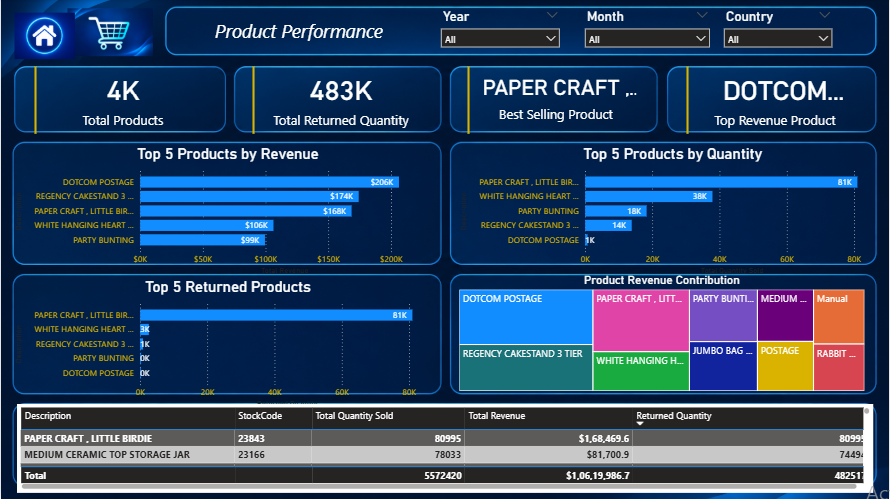

This screenshot's page, from the dashboard's own definition file:
{"tool":"powerbi","page":{"name":"Page 2","canvas":[1280,720],"ordinal":2},"visuals":[{"type":"textbox","box":[273.8,21.8,381.3,48.7],"z":0},{"type":"cardVisual","fields":{"Data":["Online_Retail_Cleaned.Total Products"]},"box":[43.7,92.4,265.4,107.5],"z":1000},{"type":"cardVisual","fields":{"Data":["Online_Retail_Cleaned.Total Returned Quantity"]},"box":[357.8,92.4,265.4,107.5],"z":2000},{"type":"cardVisual","fields":{"Data":["Online_Retail_Cleaned.Best Selling Product"]},"box":[666.9,92.4,265.4,107.5],"z":3000},{"type":"cardVisual","fields":{"Data":["Online_Retail_Cleaned.Top Revenue Product"]},"box":[982.7,92.4,265.4,107.5],"z":4000},{"type":"clusteredBarChart","title":"Top 5 Products by Revenue","fields":{"Category":["Online_Retail_Cleaned.Description"],"Y":["Online_Retail_Cleaned.Total Revenue"]},"box":[15.1,210,624.9,191.5],"z":5000},{"type":"clusteredBarChart","title":"Top 5 Products by Quantity","fields":{"Category":["Online_Retail_Cleaned.Description"],"Y":["Online_Retail_Cleaned.Total Quantity Sold"]},"box":[655.1,210,624.9,191.5],"z":6000},{"type":"clusteredBarChart","title":"Top 5 Returned Products","fields":{"Category":["Online_Retail_Cleaned.Description"],"Y":["Online_Retail_Cleaned.Returned Quantity"]},"box":[15.1,401.5,624.9,191.5],"z":7000},{"type":"treemap","title":"Product Revenue Contribution","fields":{"Values":["Online_Retail_Cleaned.Total Revenue"],"Details":["Online_Retail_Cleaned.Description"]},"box":[655.1,394.8,593,174.7],"z":8000},{"type":"tableEx","fields":{"Values":["Online_Retail_Cleaned.Description","Online_Retail_Cleaned.StockCode","Online_Retail_Cleaned.Total Quantity Sold","Online_Retail_Cleaned.Total Revenue","Online_Retail_Cleaned.Returned Quantity"]},"box":[23.5,582.9,1233,127.7],"z":9000},{"type":"slicer","fields":{"Values":["Online_Retail_Cleaned.Year"]},"box":[623.2,8.4,191.5,75.6],"z":10000},{"type":"slicer","fields":{"Values":["Online_Retail_Cleaned.Month"]},"box":[831.5,8.4,199.9,75.6],"z":11000},{"type":"slicer","fields":{"Values":["Online_Retail_Cleaned.Country"]},"box":[1031.4,8.4,176.4,75.6],"z":12000},{"type":"image","box":[90.7,5,132.7,87.3],"z":13001},{"type":"image","box":[15.1,8.4,97.4,89],"z":13002}]}

Visuals, with their boxes in screenshot pixels (x1, y1, x2, y2), scaled from the page's 1280x720 canvas onto the 890x499 screenshot:
textbox: x1=190 y1=15 x2=455 y2=49
cardVisual - Online_Retail_Cleaned.Total Products: x1=30 y1=64 x2=215 y2=139
cardVisual - Online_Retail_Cleaned.Total Returned Quantity: x1=249 y1=64 x2=433 y2=139
cardVisual - Online_Retail_Cleaned.Best Selling Product: x1=464 y1=64 x2=648 y2=139
cardVisual - Online_Retail_Cleaned.Top Revenue Product: x1=683 y1=64 x2=868 y2=139
"Top 5 Products by Revenue" clusteredBarChart: x1=10 y1=146 x2=445 y2=278
"Top 5 Products by Quantity" clusteredBarChart: x1=455 y1=146 x2=889 y2=278
"Top 5 Returned Products" clusteredBarChart: x1=10 y1=278 x2=445 y2=411
"Product Revenue Contribution" treemap: x1=455 y1=274 x2=868 y2=395
tableEx - Online_Retail_Cleaned.Description x Online_Retail_Cleaned.StockCode: x1=16 y1=404 x2=874 y2=492
slicer - Online_Retail_Cleaned.Year: x1=433 y1=6 x2=566 y2=58
slicer - Online_Retail_Cleaned.Month: x1=578 y1=6 x2=717 y2=58
slicer - Online_Retail_Cleaned.Country: x1=717 y1=6 x2=840 y2=58
image: x1=63 y1=3 x2=155 y2=64
image: x1=10 y1=6 x2=78 y2=68
